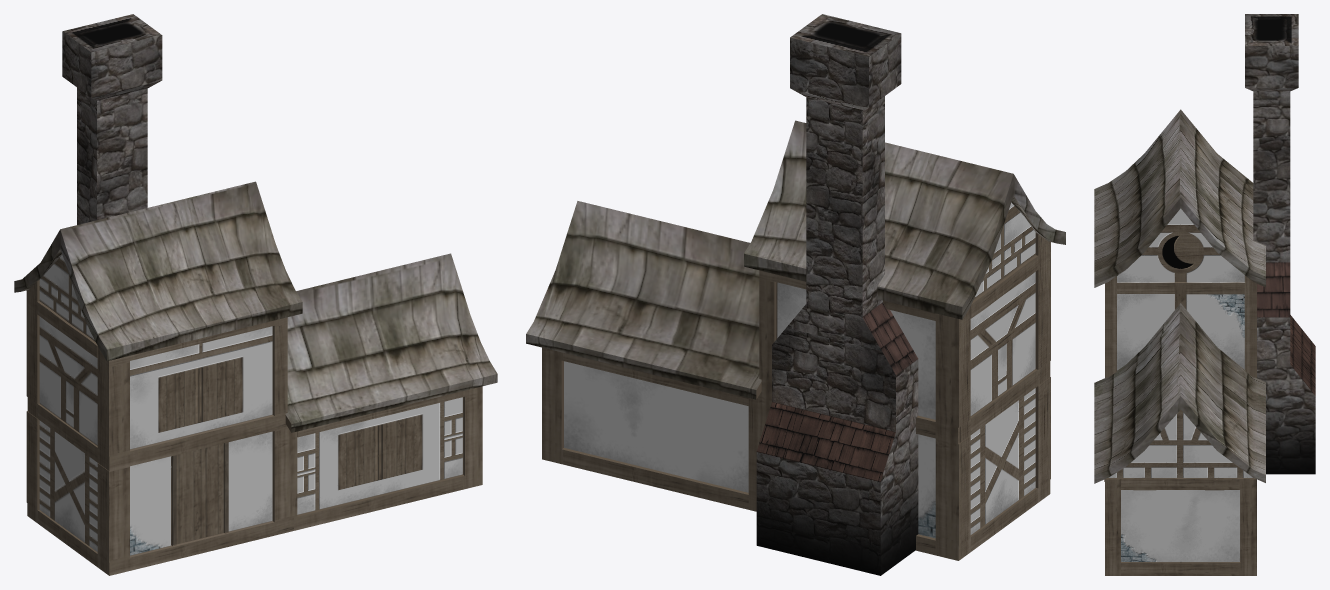
3 renders of one model, left to right at view 1: azimuth 30°, elevation 25°; view 2: azimuth 150°, elevation 25°; view 3: azimuth 270°, elevation 25°, orthographic. The views are drawn at different scales.
Parts seen in each view (by area): view 1: Cube.002; view 2: Cube.002; view 3: Cube.002.
Boxes of the visible parts, bbox=[...] form: Cube.002: bbox=[14, 14, 497, 575]; Cube.002: bbox=[526, 14, 1065, 575]; Cube.002: bbox=[1094, 14, 1315, 575].
Size of the model in its own units: 2732 by 3033 by 1449.
Materials: 2 (2 with a texture image).
